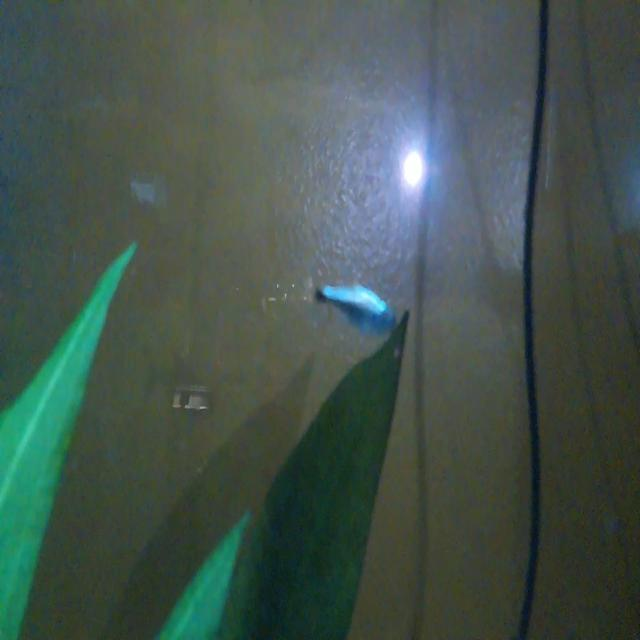fish: (308, 264, 402, 340)
